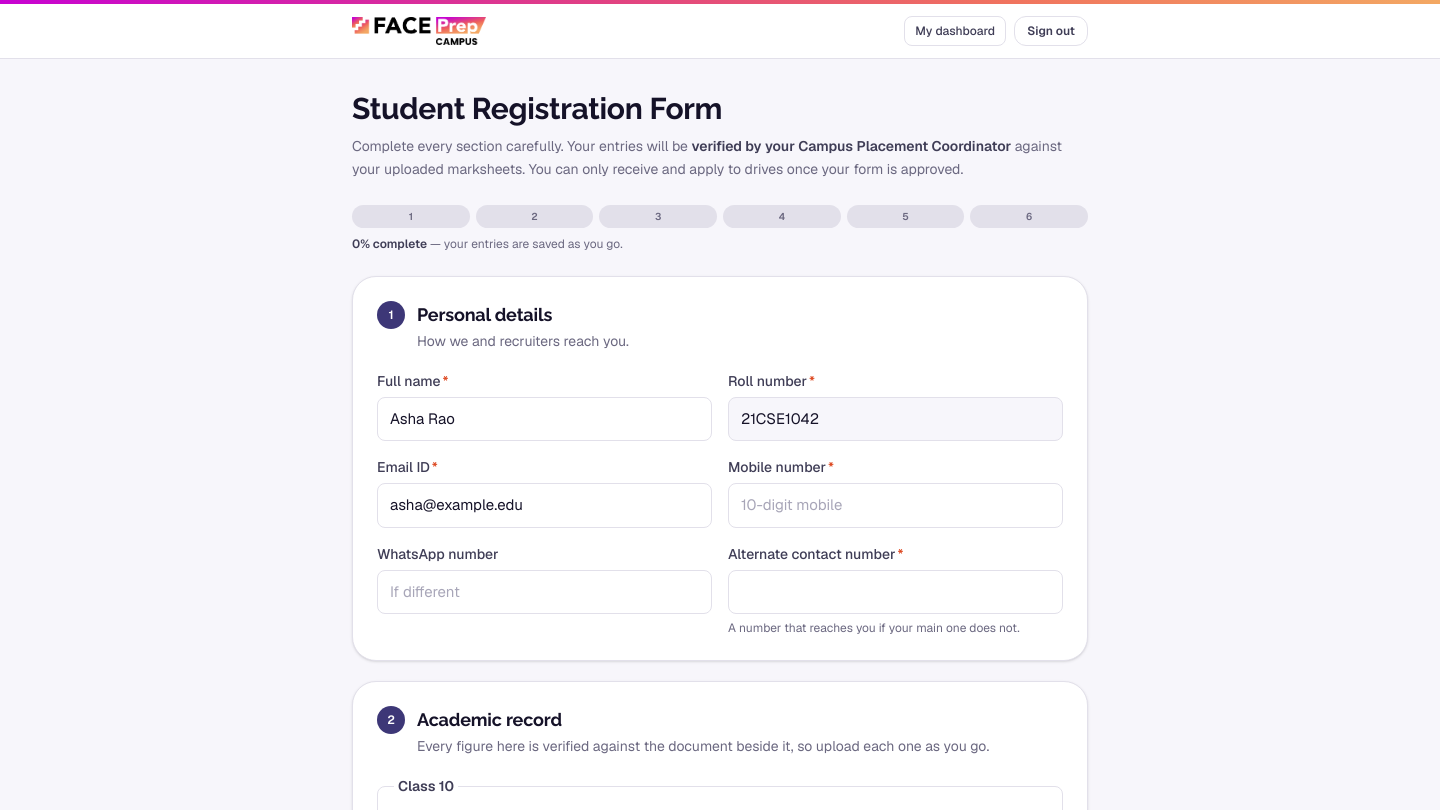
Test: SrfPage — saving a draft › tells the student it has saved, and when
Type "9876543210" into the field labelled "Mobile number*". click: (896,505)
box: [728,483,1063,528]
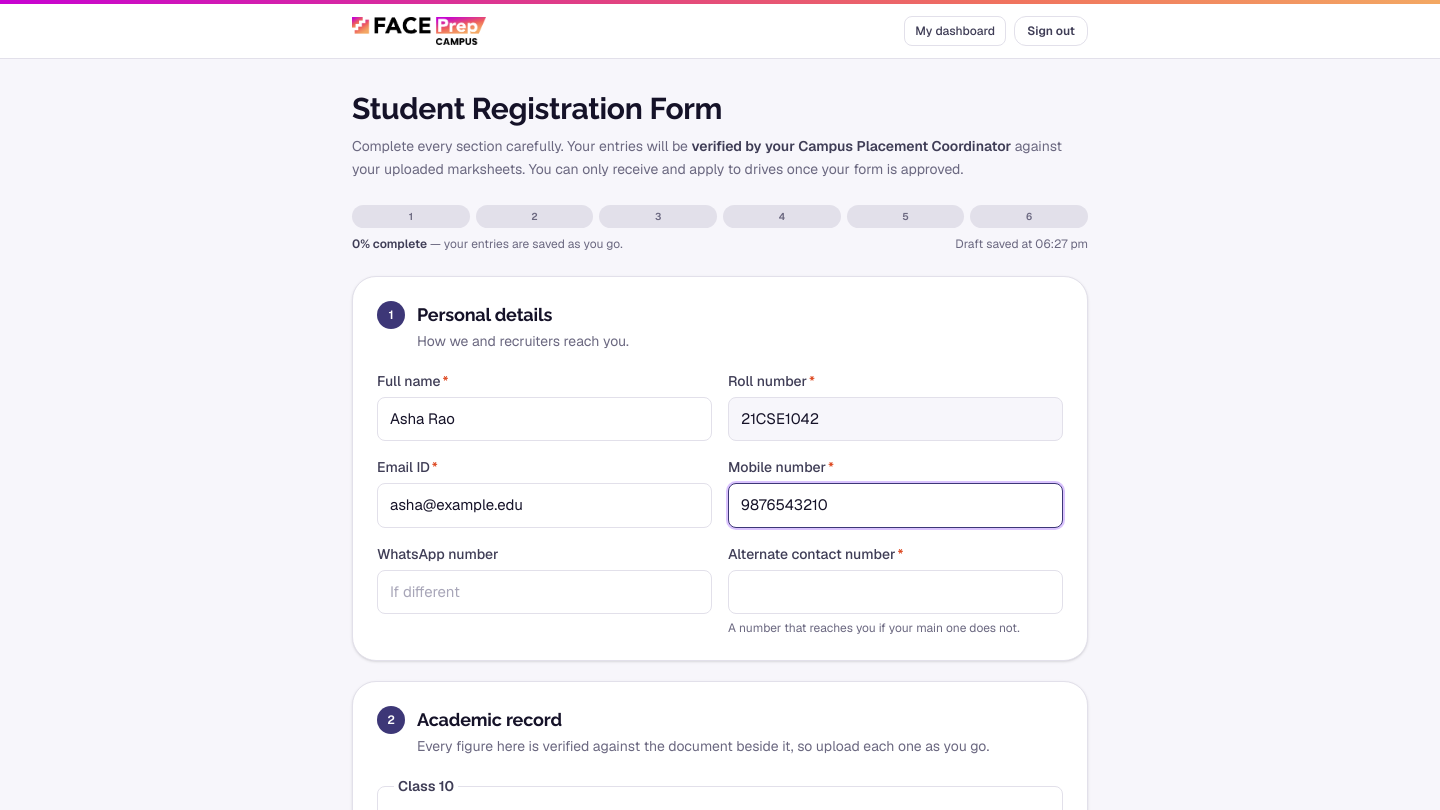
Result: the text "Draft saved at 06:27 pm" is shown at [955,236,1088,252]
